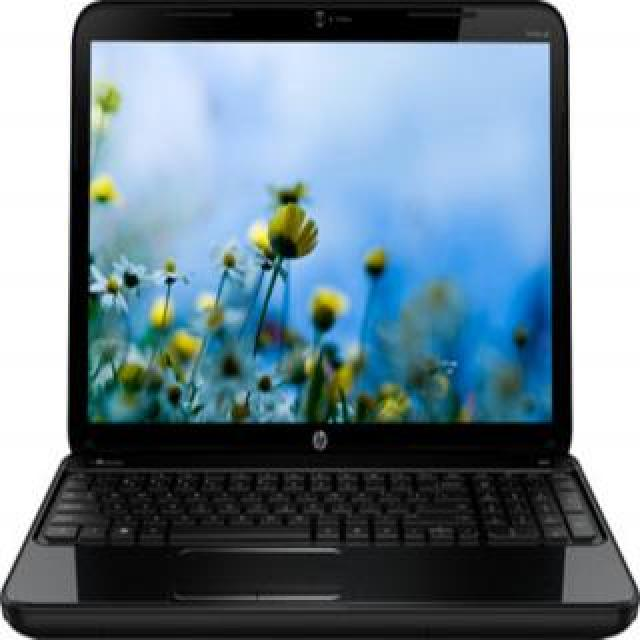laptop_computer: (48, 13, 630, 640)
